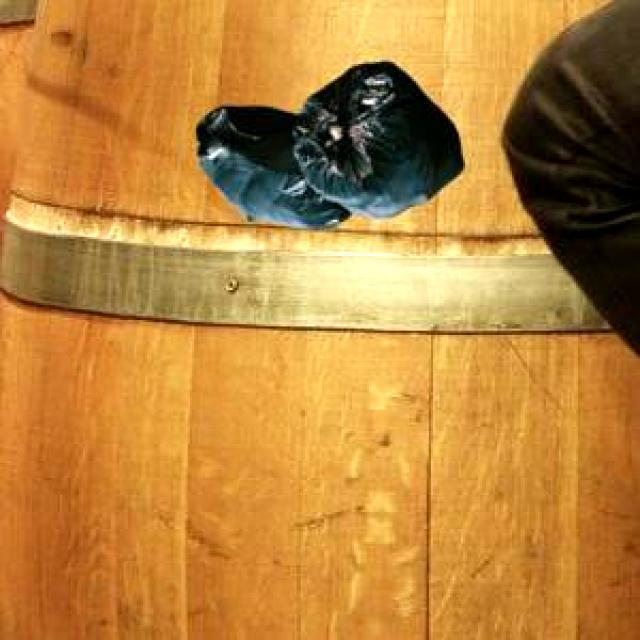Garbage_Bag: (193, 58, 460, 225)
